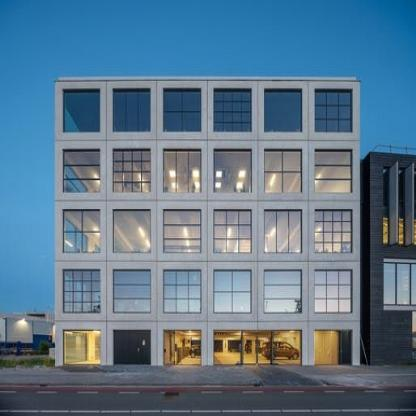Building Outline: (53, 77, 360, 366)
Door: (114, 330, 151, 365), (242, 330, 272, 364)
Facade: (53, 77, 361, 367)
Floor Slab: (55, 255, 360, 262), (55, 314, 360, 320), (55, 194, 360, 200), (55, 133, 359, 139)
Shop: (314, 329, 353, 365), (164, 330, 202, 365), (64, 330, 100, 364), (272, 330, 301, 364), (214, 330, 241, 364)
Window: (163, 90, 202, 133), (114, 90, 152, 133), (214, 89, 252, 132), (265, 90, 303, 133), (315, 89, 353, 132), (63, 150, 101, 193), (114, 149, 152, 192), (164, 150, 202, 193), (215, 151, 253, 194), (264, 150, 302, 193), (314, 150, 352, 193), (63, 209, 101, 252), (113, 209, 151, 252), (164, 210, 202, 253), (214, 210, 252, 253), (264, 210, 302, 253), (315, 210, 353, 253), (63, 270, 101, 313), (113, 270, 151, 313), (164, 271, 202, 314), (214, 270, 252, 313), (264, 271, 302, 314), (314, 270, 352, 313), (63, 90, 101, 133)
